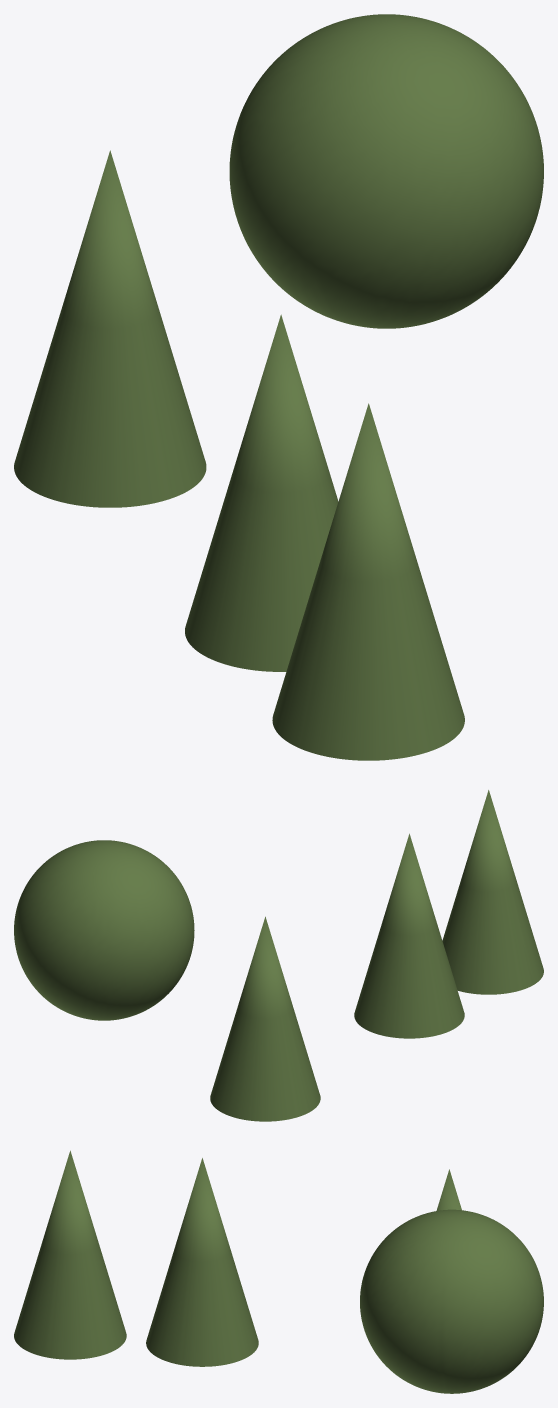
The model's file is umgebung_baeume.glb.
The picture shows the model from 3 angles, top to bottom: view 1: azimuth 30°, elevation 25°; view 2: azimuth 150°, elevation 25°; view 3: azimuth 270°, elevation 25°; orthographic projection. The views are drawn at different scales.
Visible parts, largest first — view 1: umgebung_baeume__TIB Baum 96-118-70; view 2: umgebung_baeume__TIB Baum 96-118-70; view 3: umgebung_baeume__TIB Baum 96-118-70.
Part boxes in pixels (bbox=[...]): umgebung_baeume__TIB Baum 96-118-70: bbox=[14, 14, 543, 760]; umgebung_baeume__TIB Baum 96-118-70: bbox=[14, 790, 543, 1121]; umgebung_baeume__TIB Baum 96-118-70: bbox=[14, 1150, 543, 1393].
Bounding box in the file's own units: 14.87 × 9.29 × 20.69.
